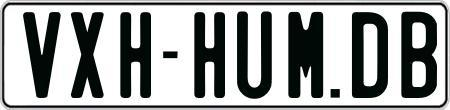B: (399, 12, 431, 101)
D: (349, 12, 385, 101)
H: (192, 9, 229, 100), (118, 9, 155, 95)
M: (288, 10, 329, 101)
U: (236, 10, 275, 102)
V: (22, 9, 65, 100)
X: (69, 10, 108, 100)
